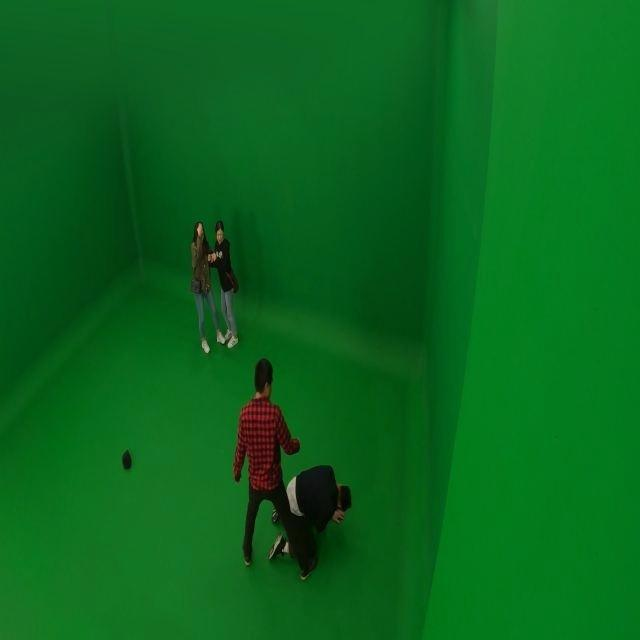fight: (231, 354, 354, 582)
non-fight: (188, 219, 224, 354), (210, 219, 240, 348)
